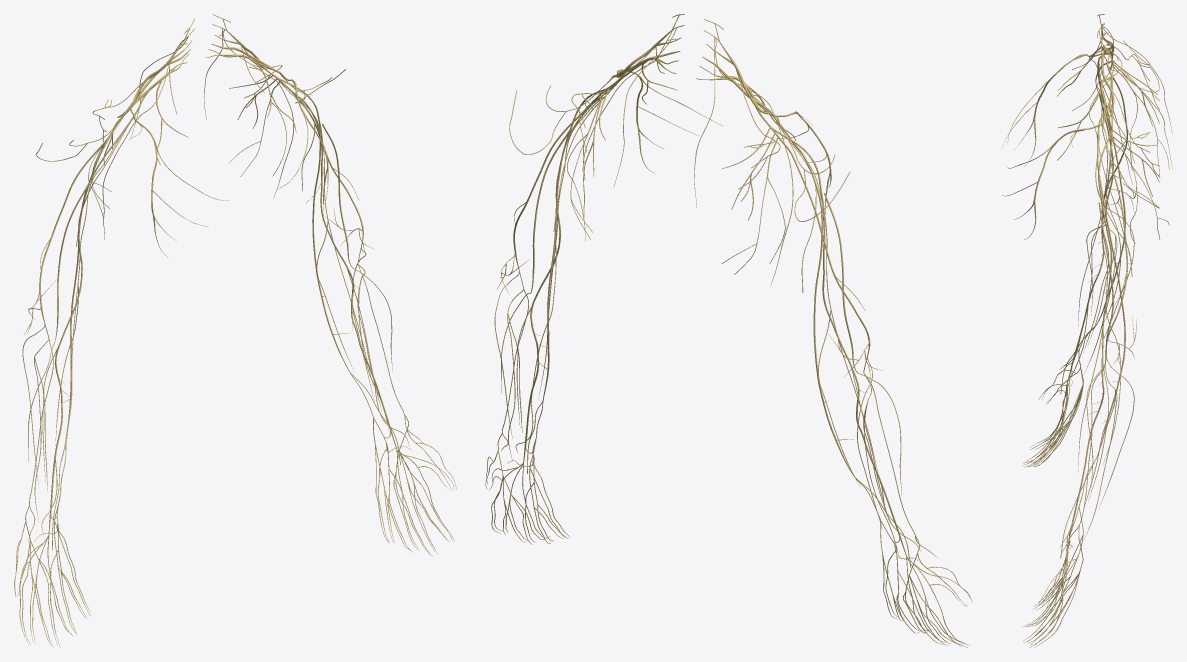
Rendered from nervous-upper-limb-mobile.glb.
The picture shows the model from 3 angles, left to right: view 1: azimuth 30°, elevation 25°; view 2: azimuth 150°, elevation 25°; view 3: azimuth 270°, elevation 25°; orthographic projection. The views are drawn at different scales.
Parts seen in each view (by area): view 1: za.median-nerve-r, za.median-nerve-l, za.dorsal-digital-branches-of-radial-nerve-l, za.ulnar-nerve-l, za.dorsal-digital-branches-of-radial-nerve-r, za.ulnar-nerve-r; view 2: za.median-nerve-r, za.ulnar-nerve-r, za.ulnar-nerve-l, za.median-nerve-l; view 3: za.median-nerve-l, za.ulnar-nerve-l, za.dorsal-digital-branches-of-radial-nerve-l, za.median-nerve-r, za.ulnar-nerve-r, za.proper-palmar-digital-branches-of-median-nerve-l, za.lateral-pectoral-nerve-r, za.lateral-pectoral-nerve-l, za.radial-nerve-l, za.dorsal-digital-branches-of-radial-nerve-r, za.superficial-branch-of-radial-nerve-l, za.proper-palmar-digital-branches-of-median-nerve-r (+2 smaller).
Part boxes in pixels (bbox=[...]): za.median-nerve-r: bbox=[48, 111, 126, 534]; za.median-nerve-l: bbox=[276, 76, 397, 449]; za.dorsal-digital-branches-of-radial-nerve-l: bbox=[393, 442, 456, 554]; za.ulnar-nerve-l: bbox=[273, 75, 373, 417]; za.dorsal-digital-branches-of-radial-nerve-r: bbox=[14, 539, 68, 645]; za.ulnar-nerve-r: bbox=[60, 107, 138, 493]; za.median-nerve-r: bbox=[771, 126, 906, 556]; za.ulnar-nerve-r: bbox=[771, 114, 880, 520]; za.ulnar-nerve-l: bbox=[536, 78, 622, 436]; za.median-nerve-l: bbox=[523, 87, 607, 463]; za.median-nerve-l: bbox=[1067, 130, 1112, 546]; za.ulnar-nerve-l: bbox=[1079, 120, 1125, 506]; za.dorsal-digital-branches-of-radial-nerve-l: bbox=[1027, 558, 1083, 647]; za.median-nerve-r: bbox=[1067, 61, 1112, 382]; za.ulnar-nerve-r: bbox=[1079, 58, 1125, 359]; za.proper-palmar-digital-branches-of-median-nerve-l: bbox=[1022, 555, 1066, 647]; za.lateral-pectoral-nerve-r: bbox=[1001, 53, 1102, 166]; za.lateral-pectoral-nerve-l: bbox=[1001, 122, 1103, 239]; za.radial-nerve-l: bbox=[1105, 139, 1128, 366]; za.dorsal-digital-branches-of-radial-nerve-r: bbox=[1027, 370, 1083, 465]; za.superficial-branch-of-radial-nerve-l: bbox=[1060, 366, 1104, 559]; za.proper-palmar-digital-branches-of-median-nerve-r: bbox=[1023, 384, 1065, 465].
Bounding box in the file's own units: 0.6674 × 0.8029 × 0.2328.
